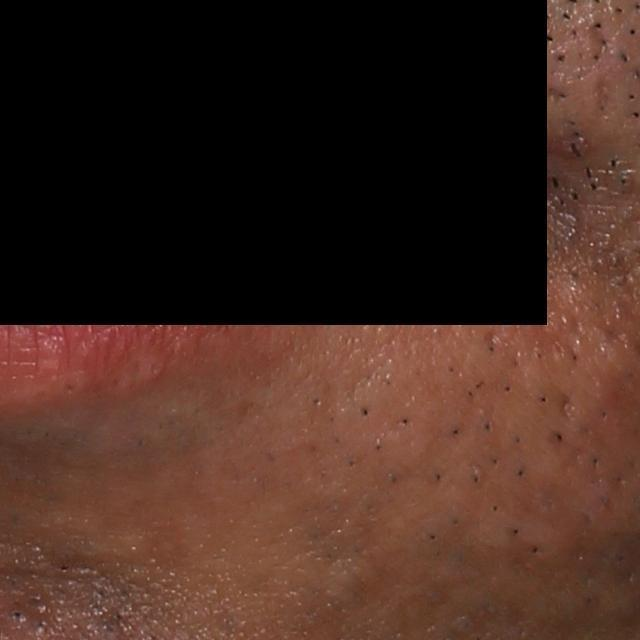hypertrophic_scar: (518, 336, 633, 407), (497, 504, 568, 558), (320, 557, 376, 601)
